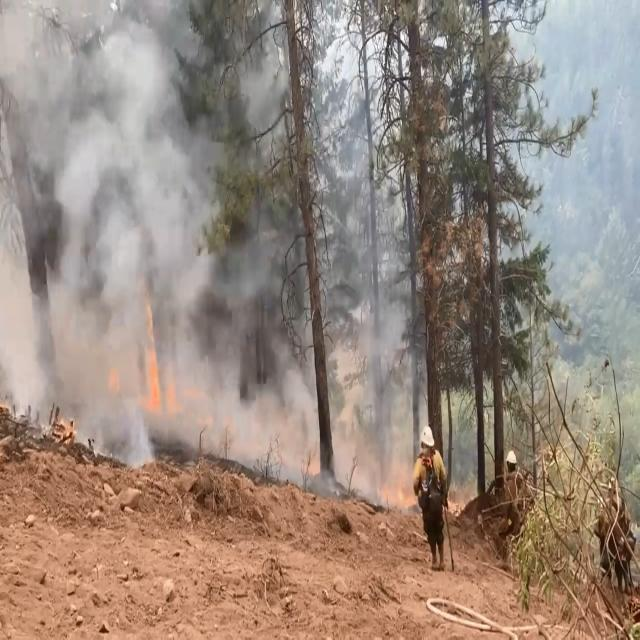Fire: (118, 292, 184, 460)
